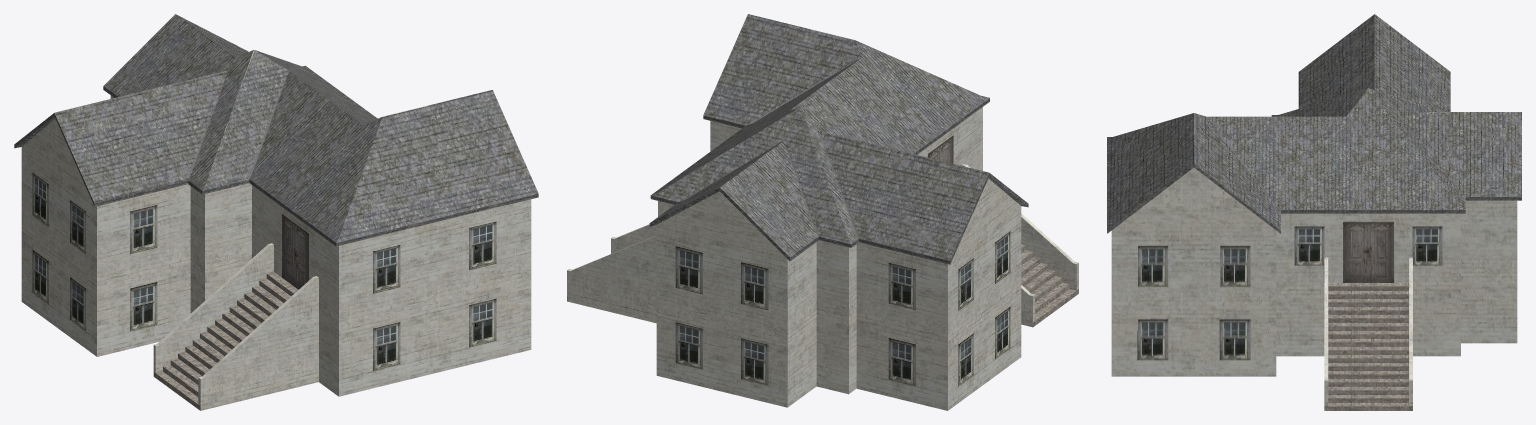
Rendered from PSX Old House 3D Model.glb.
The picture shows the model from 3 angles, left to right: view 1: azimuth 30°, elevation 25°; view 2: azimuth 150°, elevation 25°; view 3: azimuth 270°, elevation 25°; orthographic projection. The views are drawn at different scales.
Parts seen in each view (by area): view 1: PSX Old House; view 2: PSX Old House; view 3: PSX Old House.
Boxes of the visible parts, x1=… form: PSX Old House: x1=14, y1=14, x2=538, y2=410; PSX Old House: x1=567, y1=14, x2=1078, y2=410; PSX Old House: x1=1107, y1=14, x2=1521, y2=410.
Bounding box in the file's own units: 11.16 × 6.08 × 10.26.
1 material, 1 textured.
